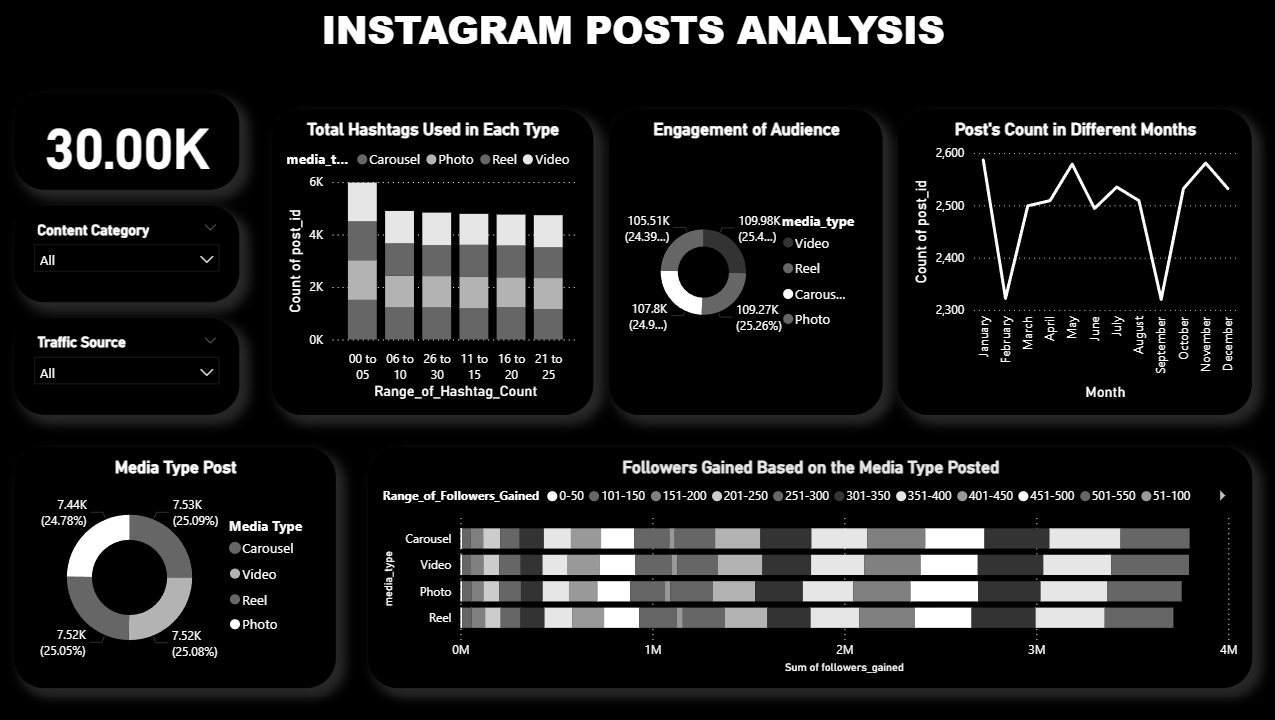

What the dashboard file says about the page in this screenshot:
{"tool":"powerbi","page":{"name":"Page 1","canvas":[1280,720],"ordinal":0},"visuals":[{"type":"card","fields":{"Values":["CountNonNull(Instagram_Analytics.post_id)"]},"box":[16,96,224,96],"z":0},{"type":"slicer","fields":{"Values":["Instagram_Analytics.content_category"]},"box":[16,208,224,96],"z":1000},{"type":"slicer","fields":{"Values":["Instagram_Analytics.traffic_source"]},"box":[16,320,224,96],"z":2000},{"type":"donutChart","title":"Media Type Post","fields":{"Category":["Instagram_Analytics.media_type"],"Y":["CountNonNull(Instagram_Analytics.post_id)"]},"box":[16,448,320,240],"z":3000},{"type":"columnChart","title":"Total Hashtags Used in Each Type","fields":{"Category":["Instagram_Analytics.Range_of_Hashtag_Count"],"Y":["CountNonNull(Instagram_Analytics.post_id)"],"Series":["Instagram_Analytics.media_type"]},"box":[272,112,320,304],"z":4000},{"type":"barChart","title":"Followers Gained Based on the Media Type Posted","fields":{"Category":["Instagram_Analytics.media_type"],"Y":["Sum(Instagram_Analytics.followers_gained)"],"Series":["Instagram_Analytics.Range_of_Followers_Gained"]},"box":[368,448,880,240],"z":5000},{"type":"donutChart","title":"Engagement of Audience","fields":{"Category":["Instagram_Analytics.media_type"],"Y":["Sum(Instagram_Analytics.engagement_rate)"]},"box":[608,112,272,304],"z":6000},{"type":"lineChart","title":"Post''s Count in Different Months","fields":{"Category":["Instagram_Analytics.upload_date.Variation.Date Hierarchy.Month"],"Y":["CountNonNull(Instagram_Analytics.post_id)"]},"box":[896,112,352,304],"z":7000},{"type":"textbox","box":[16,0,1232,80],"z":8000}]}

Visuals, with their boxes in screenshot pixels (x1, y1, x2, y2), scaled from the page's 1280x720 canvas onto the 1275x720 screenshot:
card - CountNonNull(Instagram_Analytics.post_id): crop(16, 96, 239, 192)
slicer - Instagram_Analytics.content_category: crop(16, 208, 239, 304)
slicer - Instagram_Analytics.traffic_source: crop(16, 320, 239, 416)
"Media Type Post" donutChart: crop(16, 448, 335, 688)
"Total Hashtags Used in Each Type" columnChart: crop(271, 112, 590, 416)
"Followers Gained Based on the Media Type Posted" barChart: crop(367, 448, 1243, 688)
"Engagement of Audience" donutChart: crop(606, 112, 877, 416)
"Post''s Count in Different Months" lineChart: crop(892, 112, 1243, 416)
textbox: crop(16, 0, 1243, 80)
